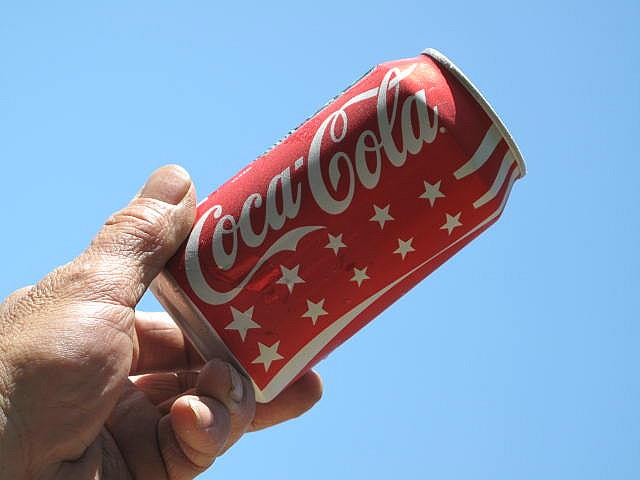coca_cola: (176, 57, 454, 299)
